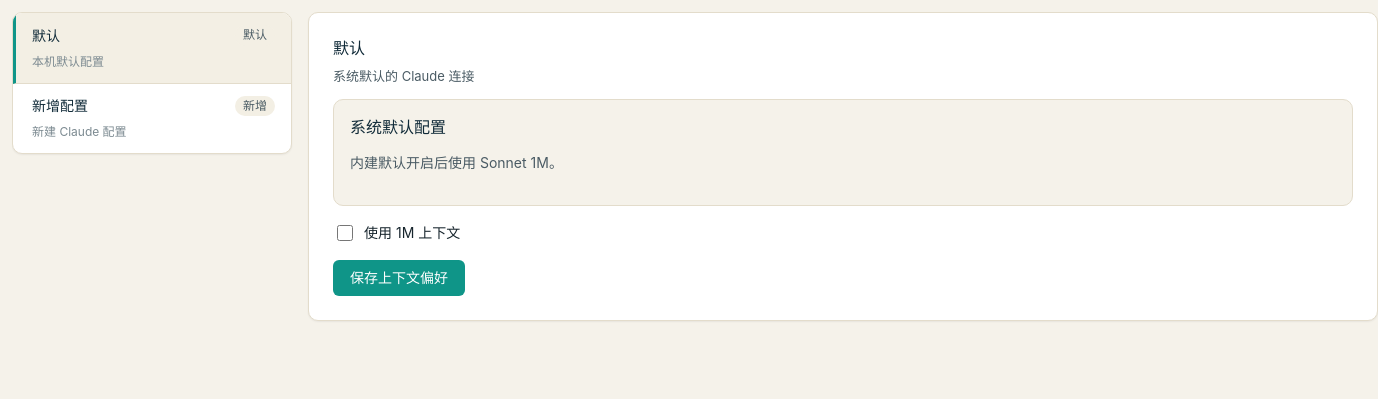
Test case: ClaudeProfileSection › lets the built-in profile save the 1M context preference
Check: the text "内建默认开启后使用 Sonnet 1M。" is shown, box 350,154 -> 563,171
Click the checkbox labelled "使用 1M 上下文": (345, 233) 337,225 -> 353,241
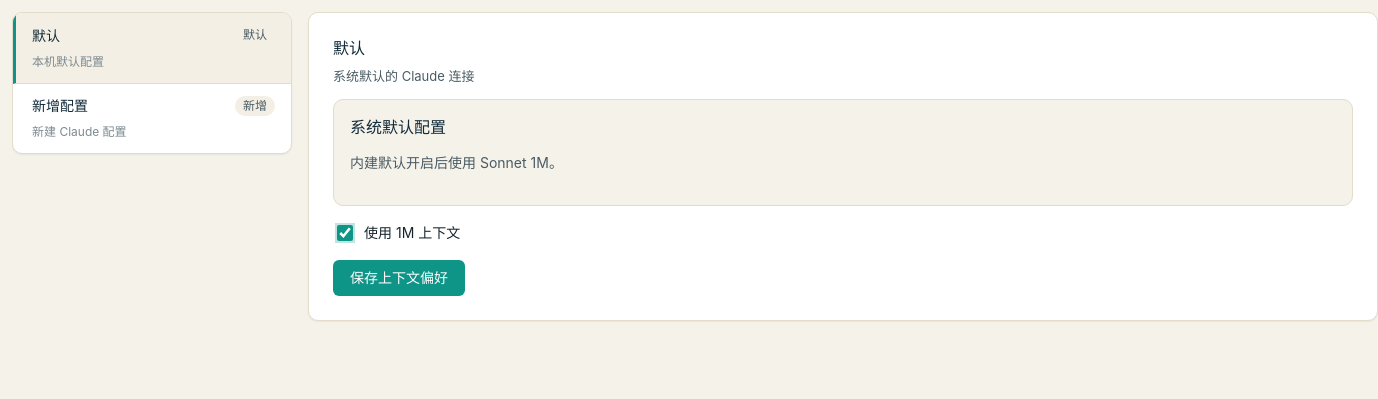
Click the button "保存上下文偏好": (399, 278) 333,260 -> 465,296
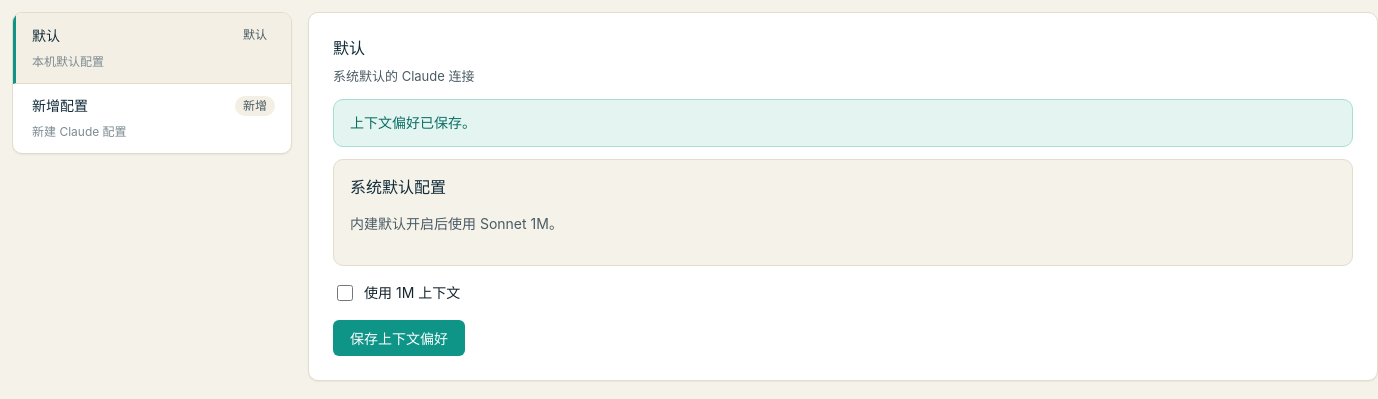
Check: the text "上下文偏好已保存。" is shown, box 333,99 -> 1353,147
